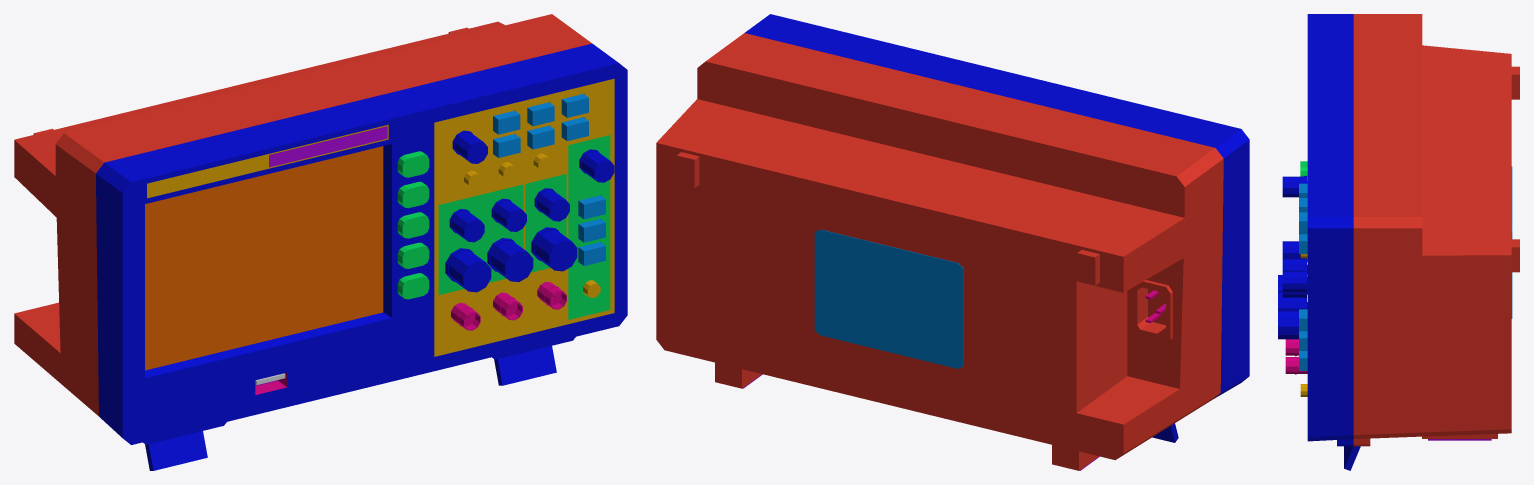
The model's file is Oscilloscope.fbx.
3 views of the same model, side by side, from view 1: azimuth 30°, elevation 25°; view 2: azimuth 150°, elevation 25°; view 3: azimuth 270°, elevation 25° (orthographic). The views are drawn at different scales.
Parts seen in each view (by area): view 1: Oscilloscope; view 2: Oscilloscope; view 3: Oscilloscope.
Part boxes in pixels (x1,y1,x2,y2): Oscilloscope: [14, 14, 627, 470]; Oscilloscope: [656, 14, 1249, 470]; Oscilloscope: [1278, 14, 1519, 470].
Bounding box in the file's own units: 30.58 × 18.37 × 14.87.
